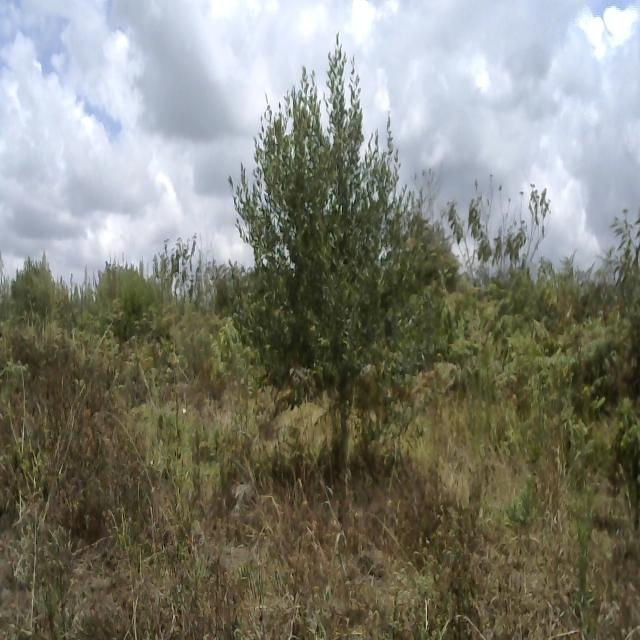Olea europea -africana-: (186, 39, 458, 485)
